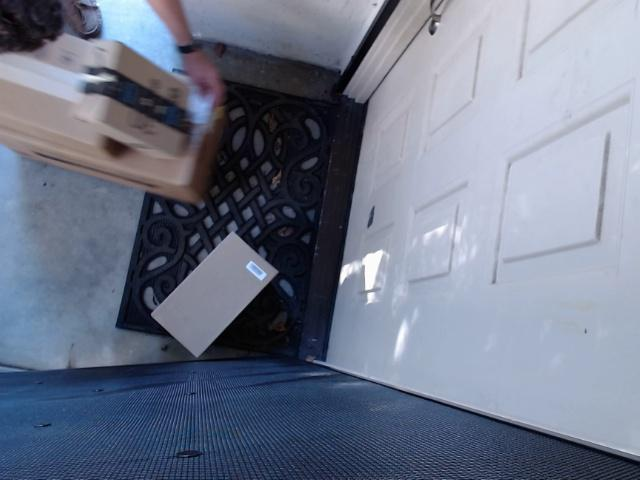box: (0, 8, 228, 203), (0, 12, 134, 180), (64, 25, 204, 163), (156, 223, 292, 361)
